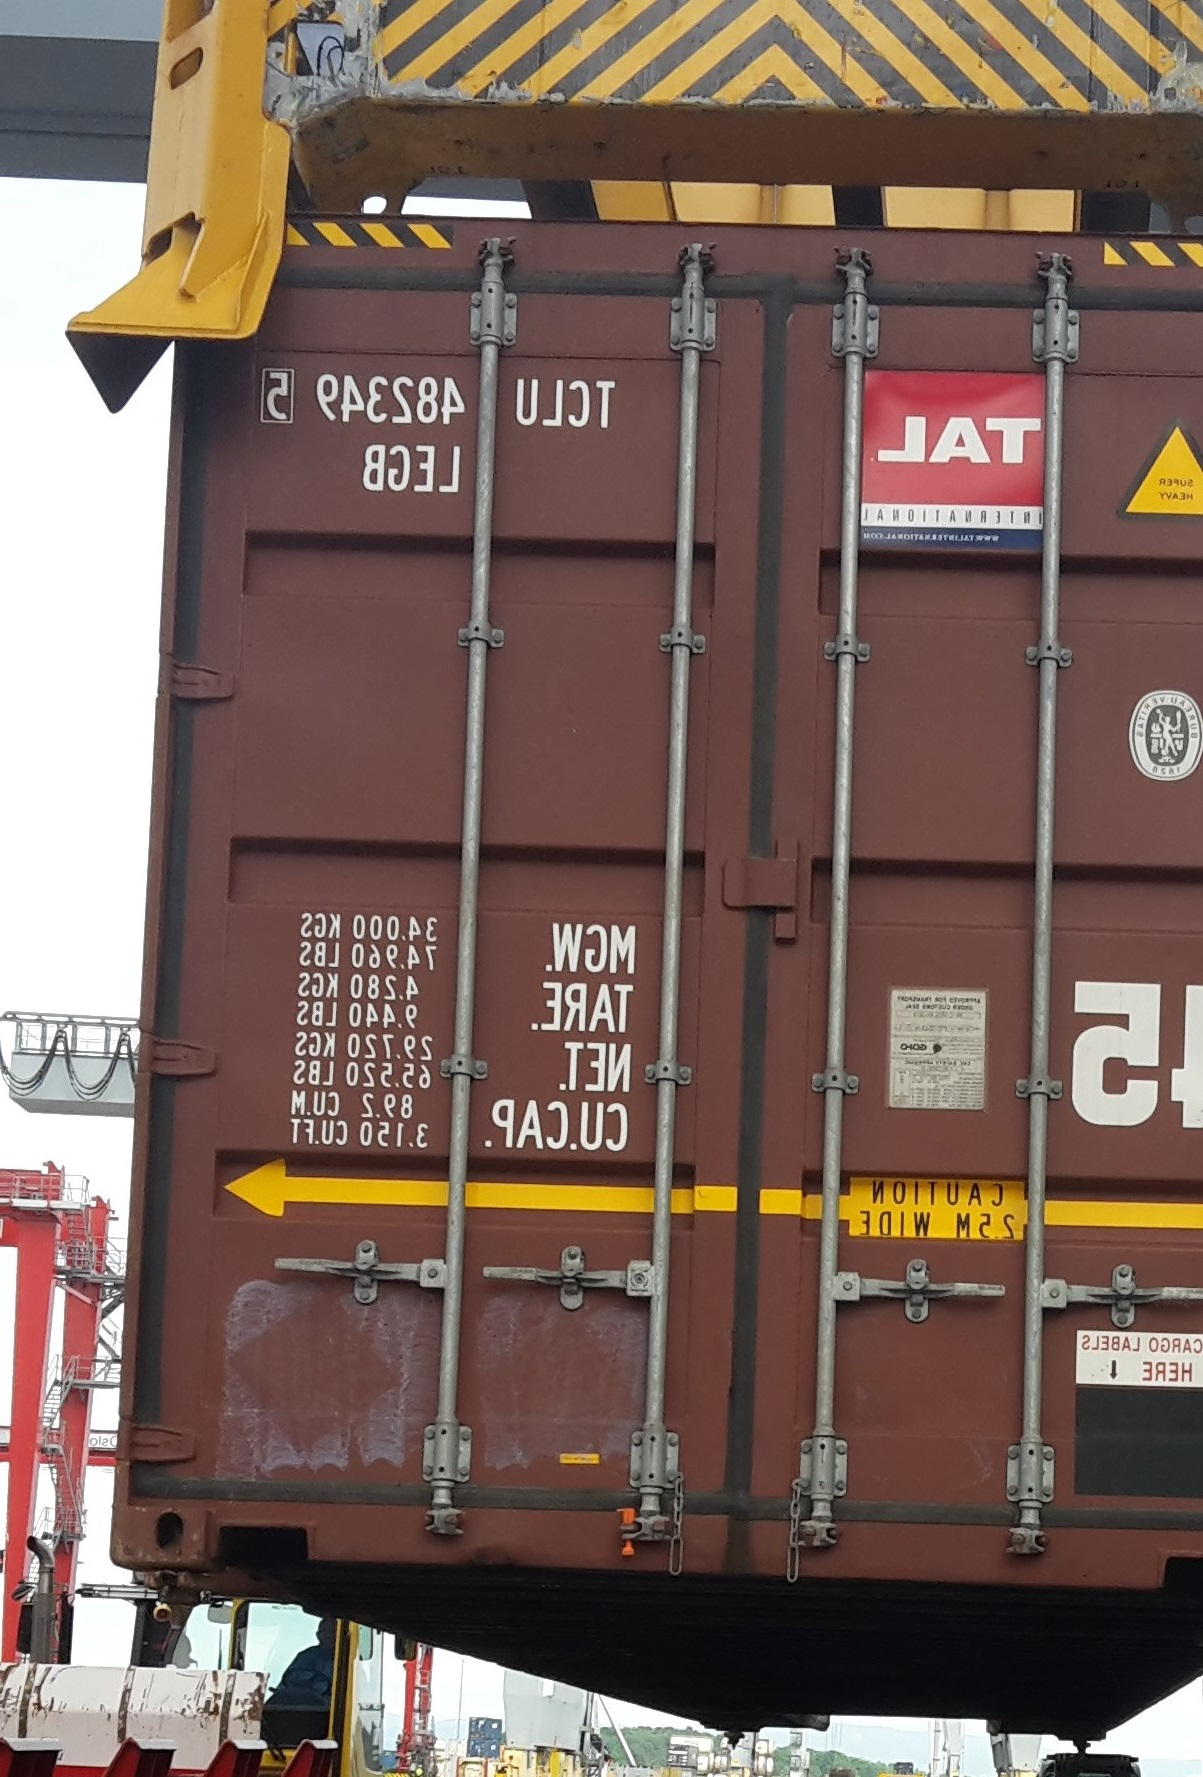container_door: (124, 217, 1194, 1562)
